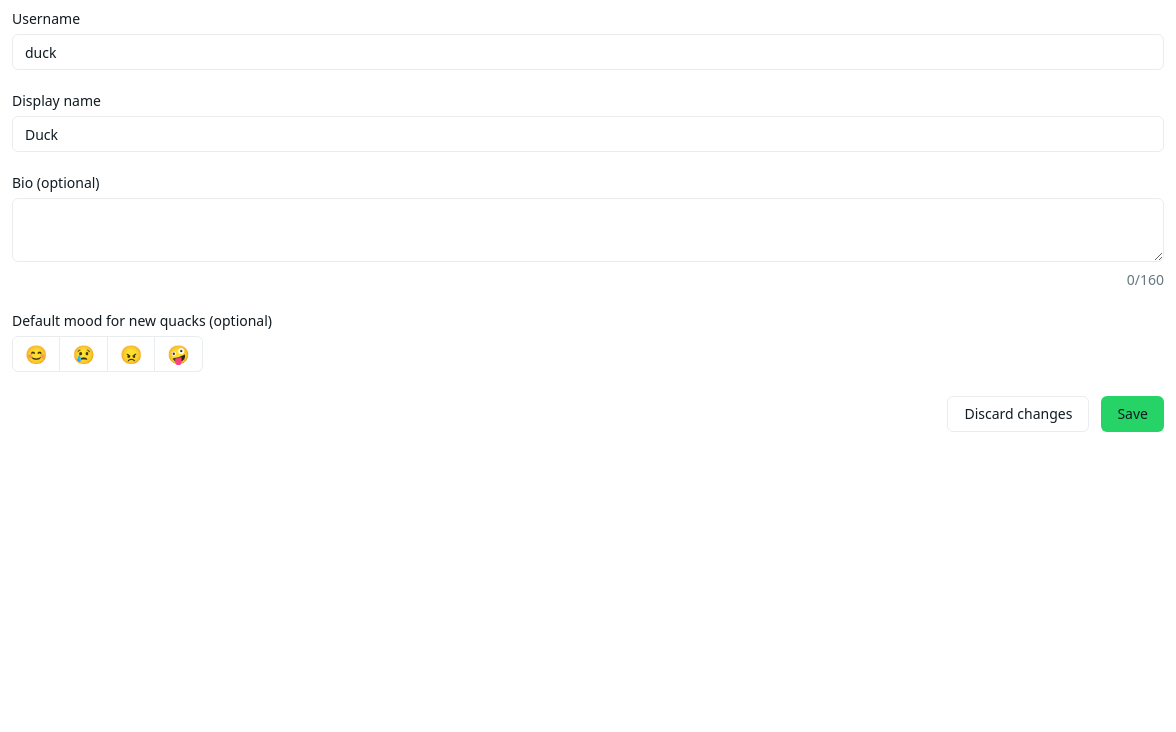
SettingsForm › confirms a save, and discard goes back to the saved values
Type "hello" into the text box labelled "Bio (optional)" at (588, 230), box [12,198,1164,262]
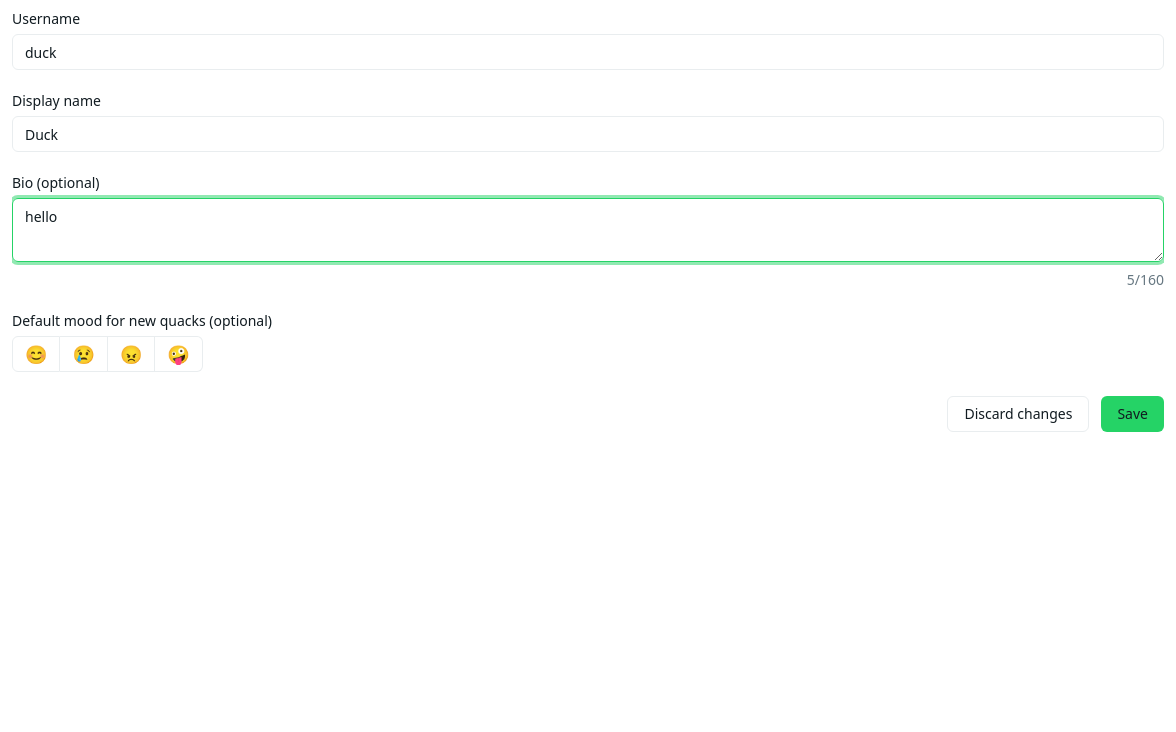
Click the button "Save" at (1133, 414), box [1101,396,1164,432]
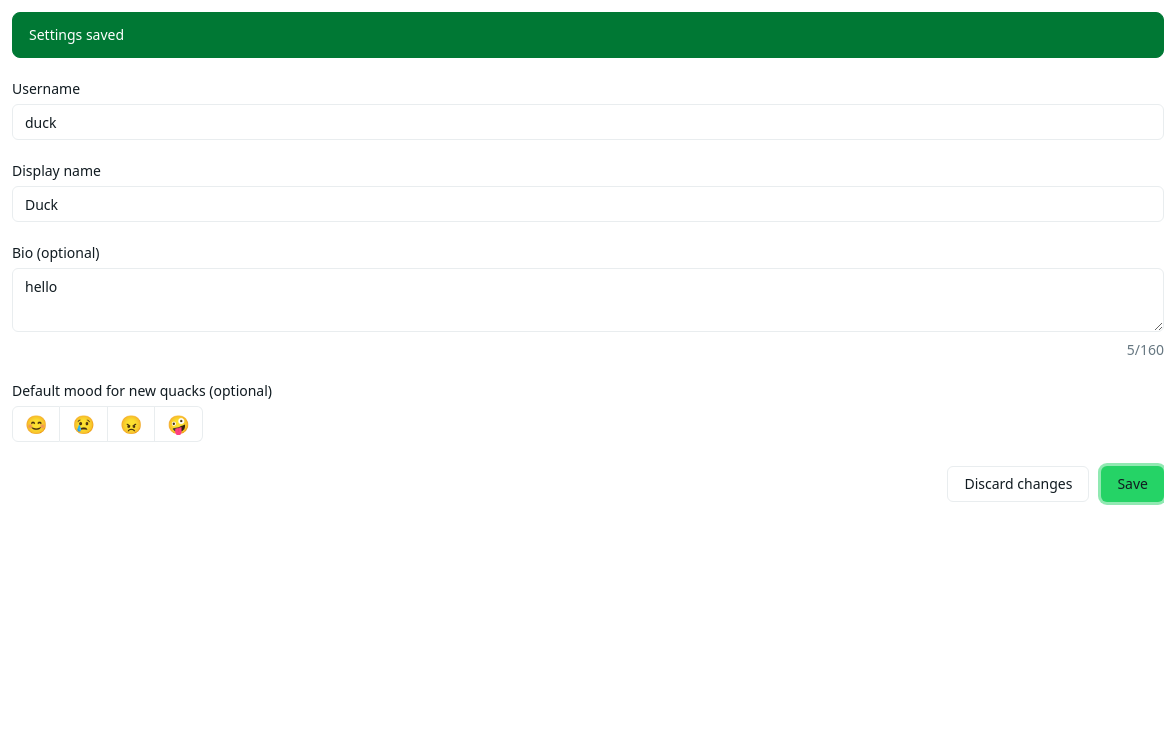
Expected: the text "Settings saved" is shown, [29,25,124,44]
Type " Jr" into the field labelled "Display name" at (588, 204), box [12,186,1164,222]
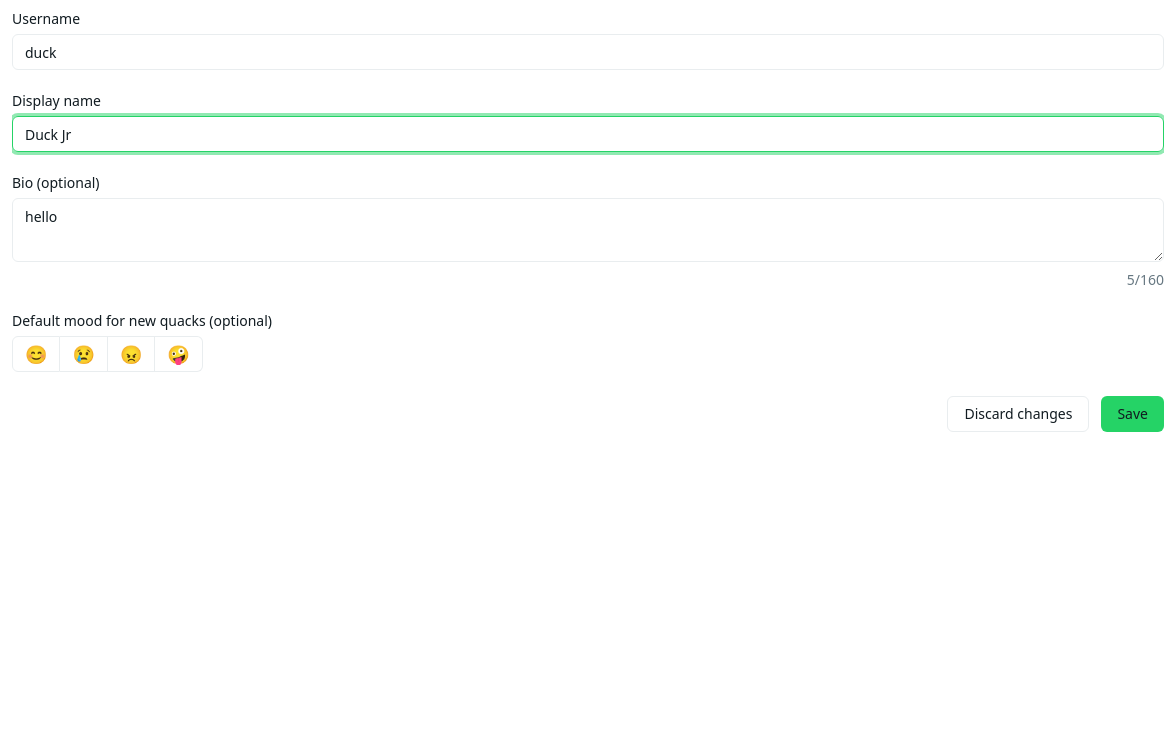
Click the button "Discard changes" at (1018, 414), box [948,396,1090,432]
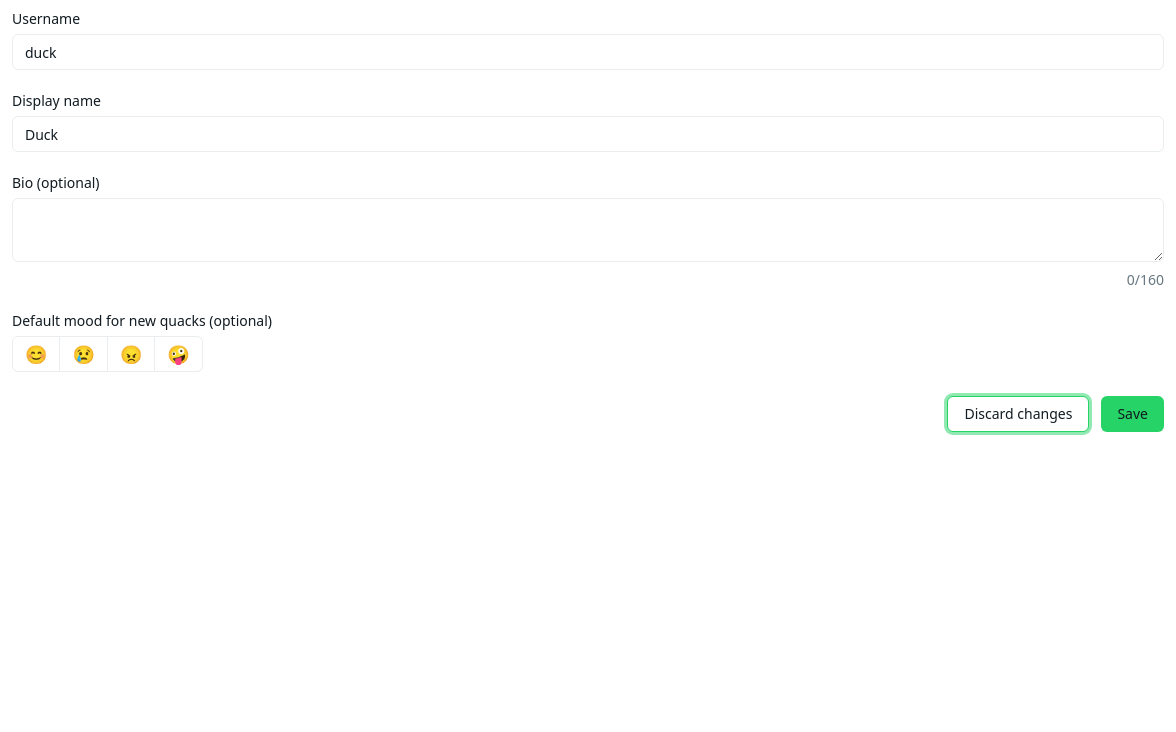
Expected: the field labelled "Display name" holds "Duck", [12,116,1164,152]
